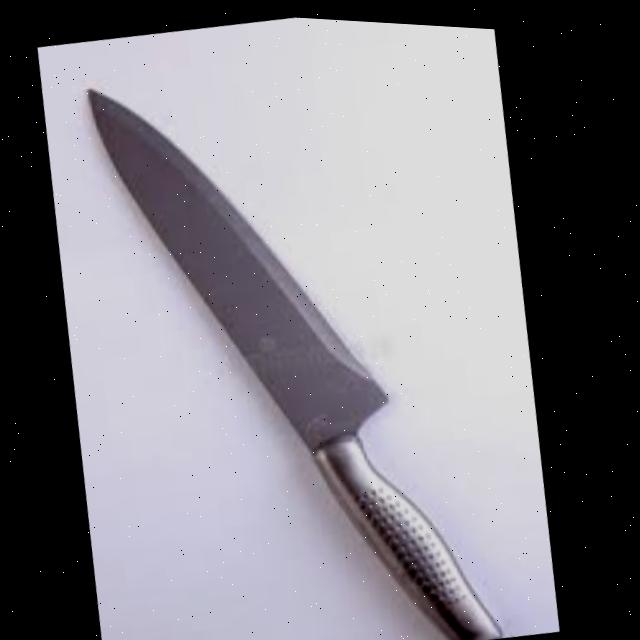Knife: (59, 20, 545, 640)
